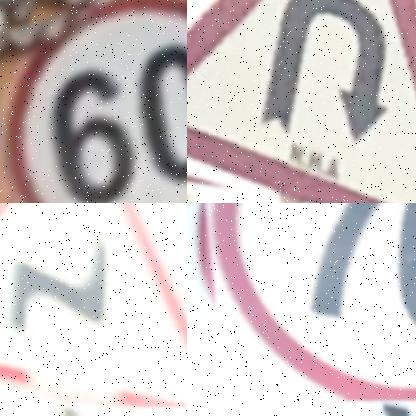Speed Limit (70 kmph): (206, 203, 416, 398)
Speed Limit -60 kmph-: (0, 0, 187, 203), (17, 11, 187, 203)
U-Turn: (187, 0, 416, 203)
